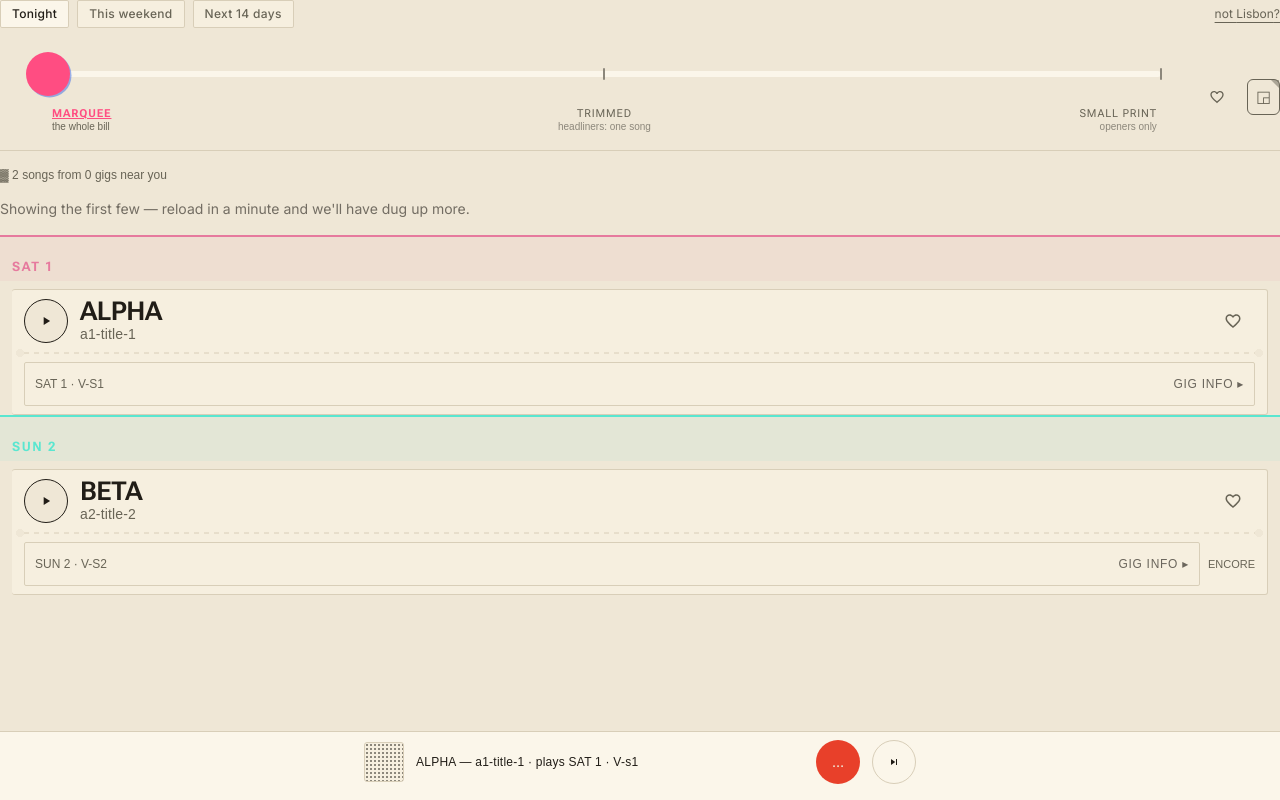
it: PlaylistScreen — the Hearted shelf (step 3) › an in-shelf unheart empties the shelf, the dock count and the row heart together
Click the button named "Heart ALPHA — a1-title-1": (1233, 320) [1211,298,1255,342]
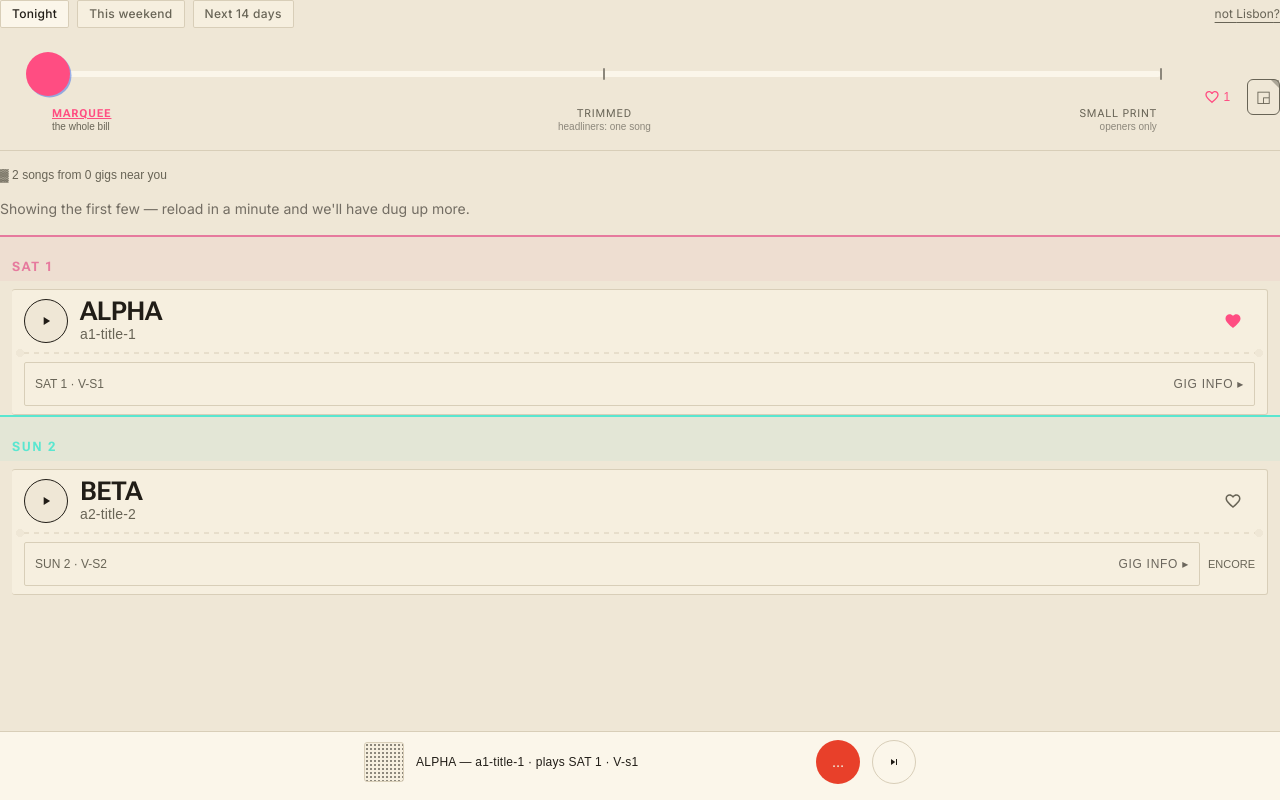
Click the button named "Your hearted songs (1)": (1217, 97) [1195,75,1239,119]
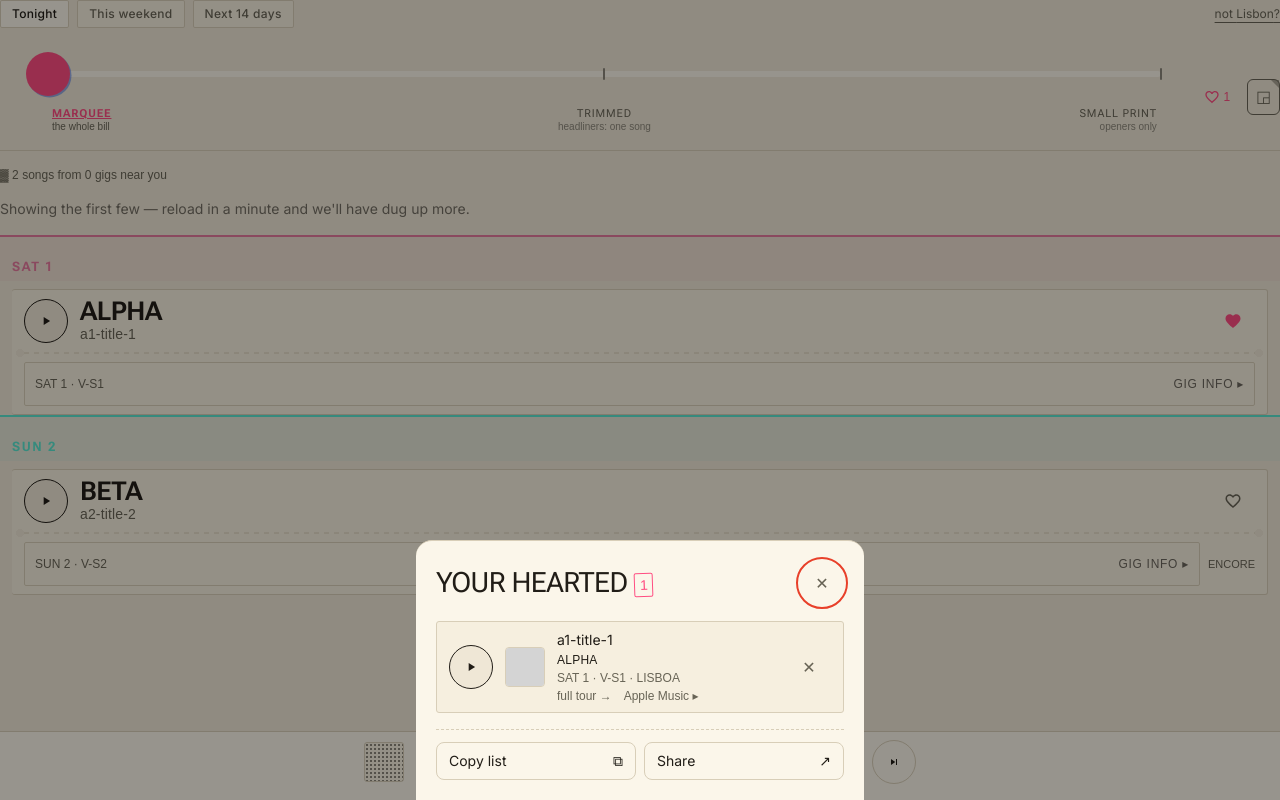
Click the button named "Unheart ALPHA — a1-title-1": (809, 667) [787,645,831,689]
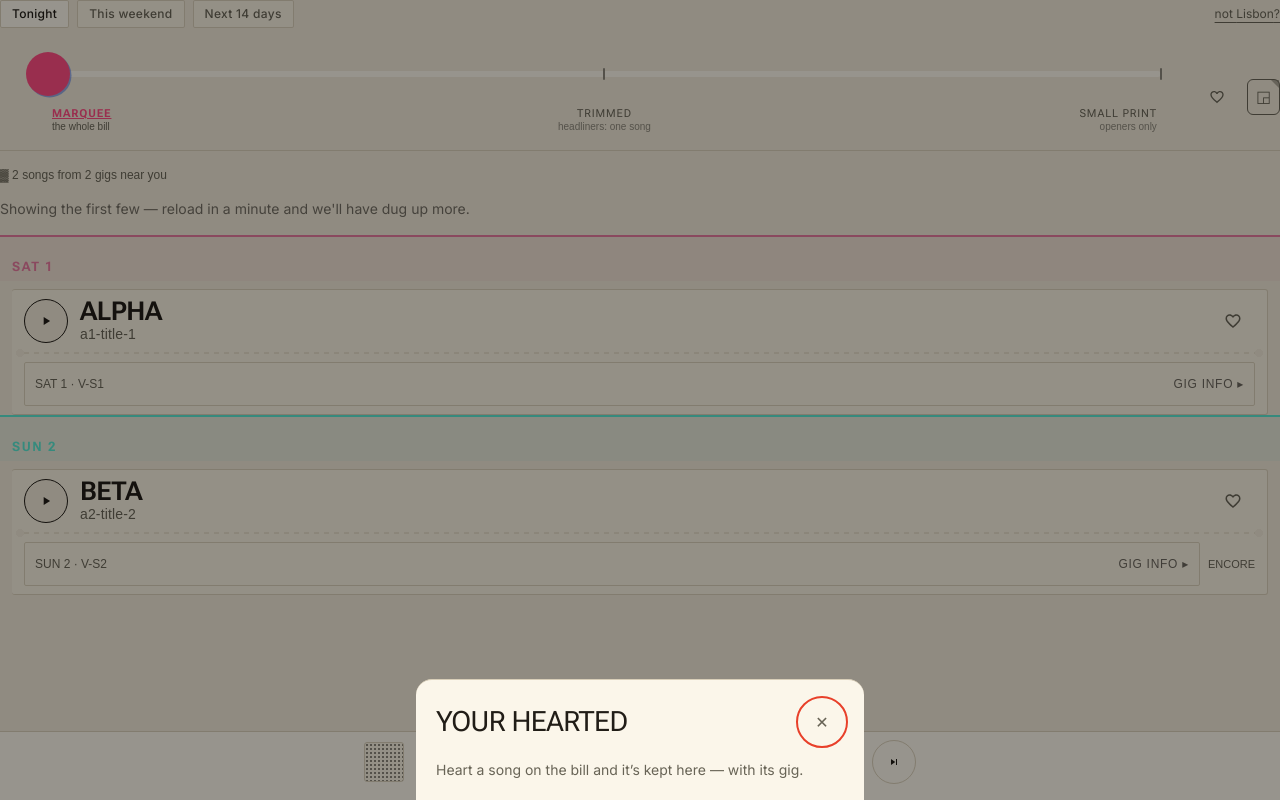
Now the text "Heart a song on the bill and it’s kept here — with its gig." is shown, box [436,760,844,780]
Now the button named "Your hearted songs (0)" is shown, box [1195,75,1239,119]
